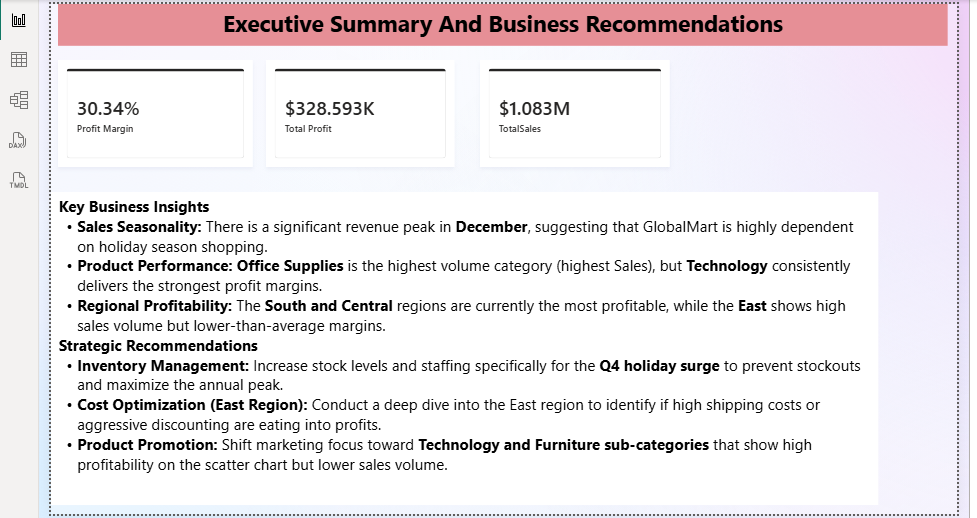

The dashboard page shown, as its layout file describes it:
{"tool":"powerbi","page":{"name":"Summary","canvas":[1280,720],"ordinal":0},"visuals":[{"type":"textbox","box":[9.9,0,1256.5,59.3],"z":0},{"type":"cardVisual","fields":{"Data":["Sales Fact Table.Profit Margin"]},"box":[9.9,79.1,275.3,151.1],"z":1},{"type":"cardVisual","fields":{"Data":["Sales Fact Table.Total Profit"]},"box":[303.5,79.1,266.8,151.1],"z":2},{"type":"cardVisual","fields":{"Data":["Sales Fact Table.TotalSales"]},"box":[605.6,79.1,268.2,151.1],"z":3},{"type":"textbox","box":[0,265.4,1167.5,441.9],"z":4}]}

Visuals, with their boxes on the page's 1280x720 design canvas (x1, y1, x2, y2). These are canvas units, not pixel positions in the 977x518 screenshot, which may show the page scaled, cropped or inside an application window:
textbox: region(10, 0, 1266, 59)
cardVisual - Sales Fact Table.Profit Margin: region(10, 79, 285, 230)
cardVisual - Sales Fact Table.Total Profit: region(304, 79, 570, 230)
cardVisual - Sales Fact Table.TotalSales: region(606, 79, 874, 230)
textbox: region(0, 265, 1168, 707)
